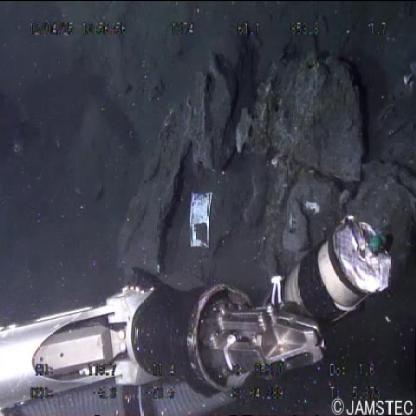Rov: (1, 210, 395, 416)
Rác: (184, 188, 218, 253)
